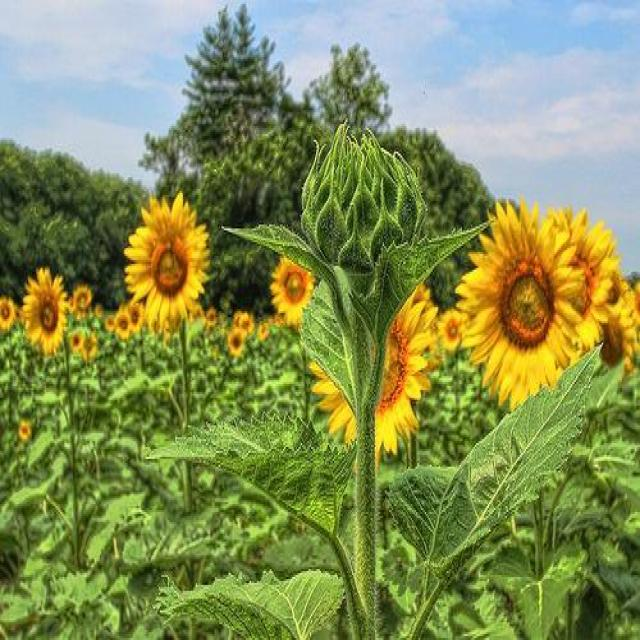sunflower: (456, 200, 584, 409), (311, 286, 437, 454), (123, 188, 209, 332), (546, 206, 616, 350), (19, 266, 70, 354), (270, 255, 315, 325), (599, 296, 636, 363), (437, 309, 462, 347), (124, 305, 144, 332), (73, 284, 92, 310), (0, 297, 14, 331), (228, 328, 245, 355), (116, 314, 130, 339), (82, 336, 96, 357), (70, 328, 83, 350), (18, 420, 30, 440)
